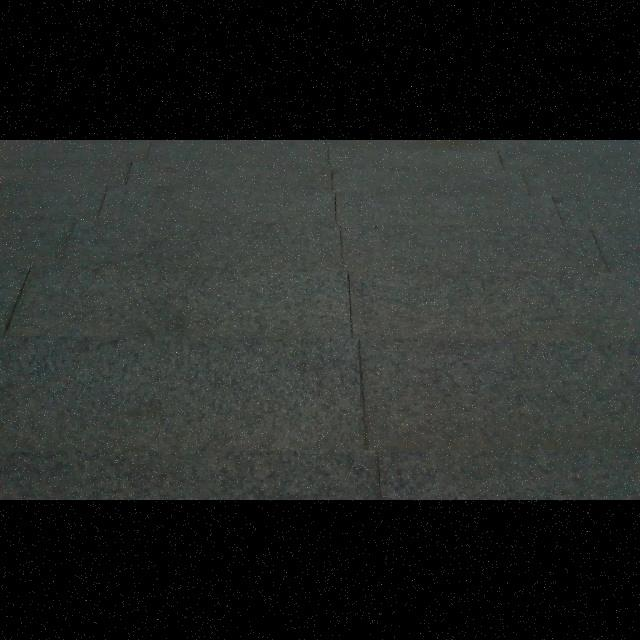stair: (3, 142, 640, 484)
